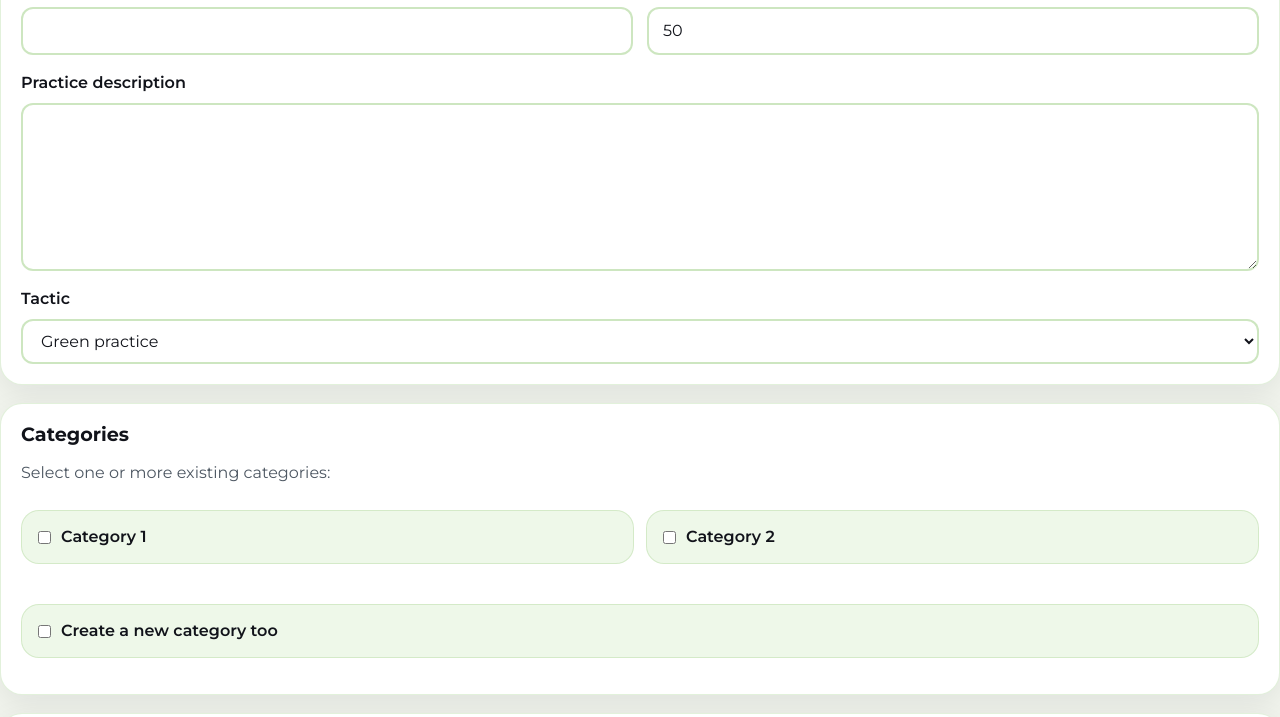
Test: PracticeForm Component › Form Submission - Create Mode › disables submit button while saving
Type "Test" into the field labelled "Practice title". click: coordinates (327, 31)
box: 21,7 -> 633,55
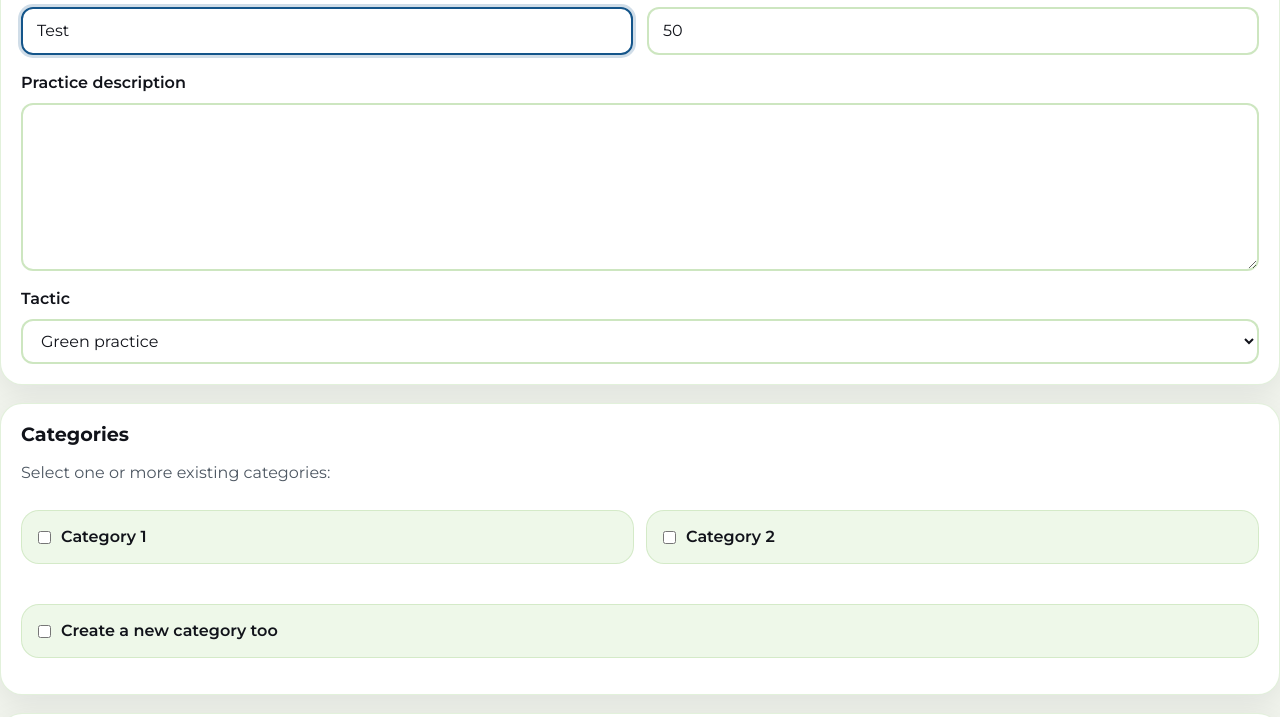
Type "Test" into the text box labelled "Practice description". click: coordinates (640, 187)
box: 21,103 -> 1259,271
(page scrolled)
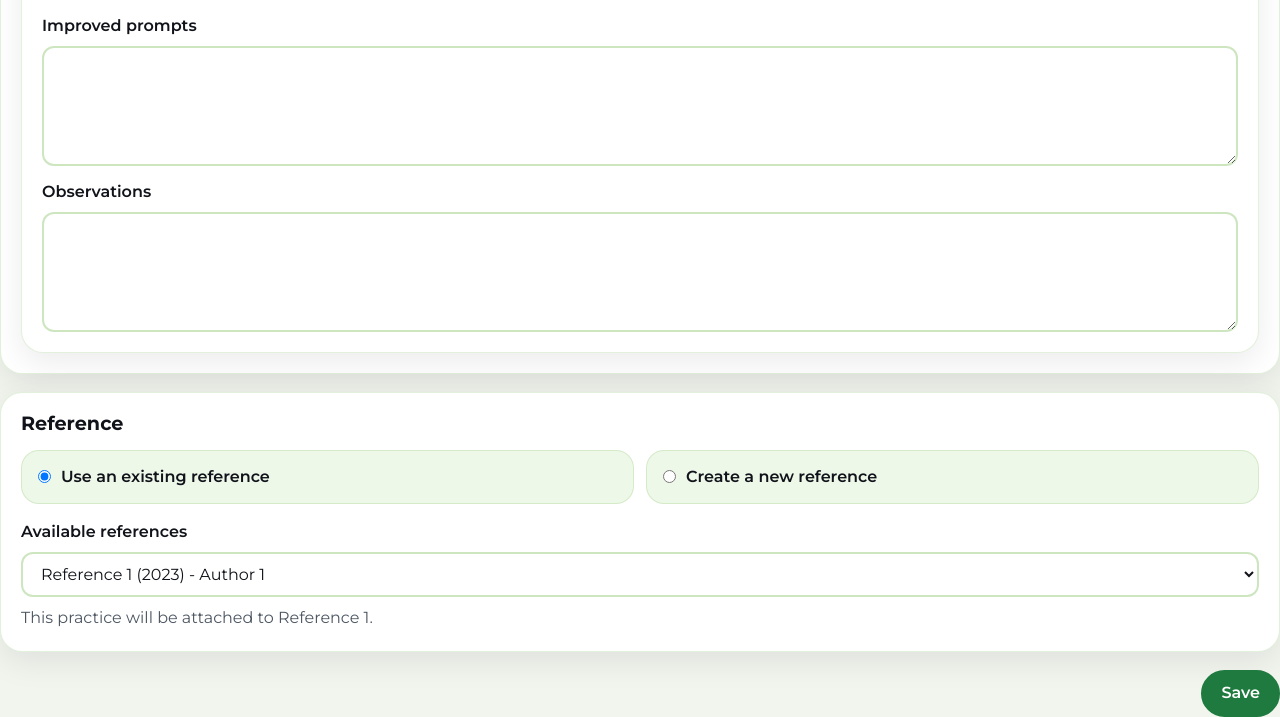
Click the button "Save". click: coordinates (1241, 693)
box: 1201,670 -> 1279,716
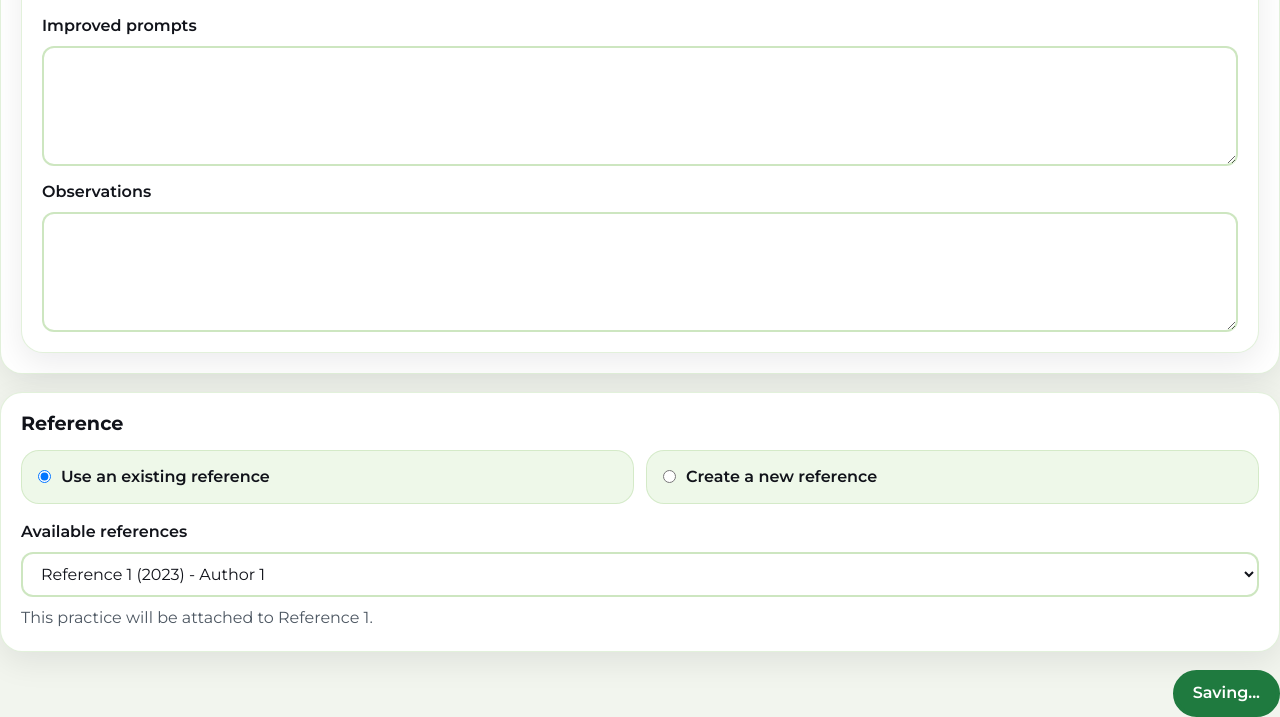
Check: the button named "Save" is disabled, box 1173,670 -> 1279,716
